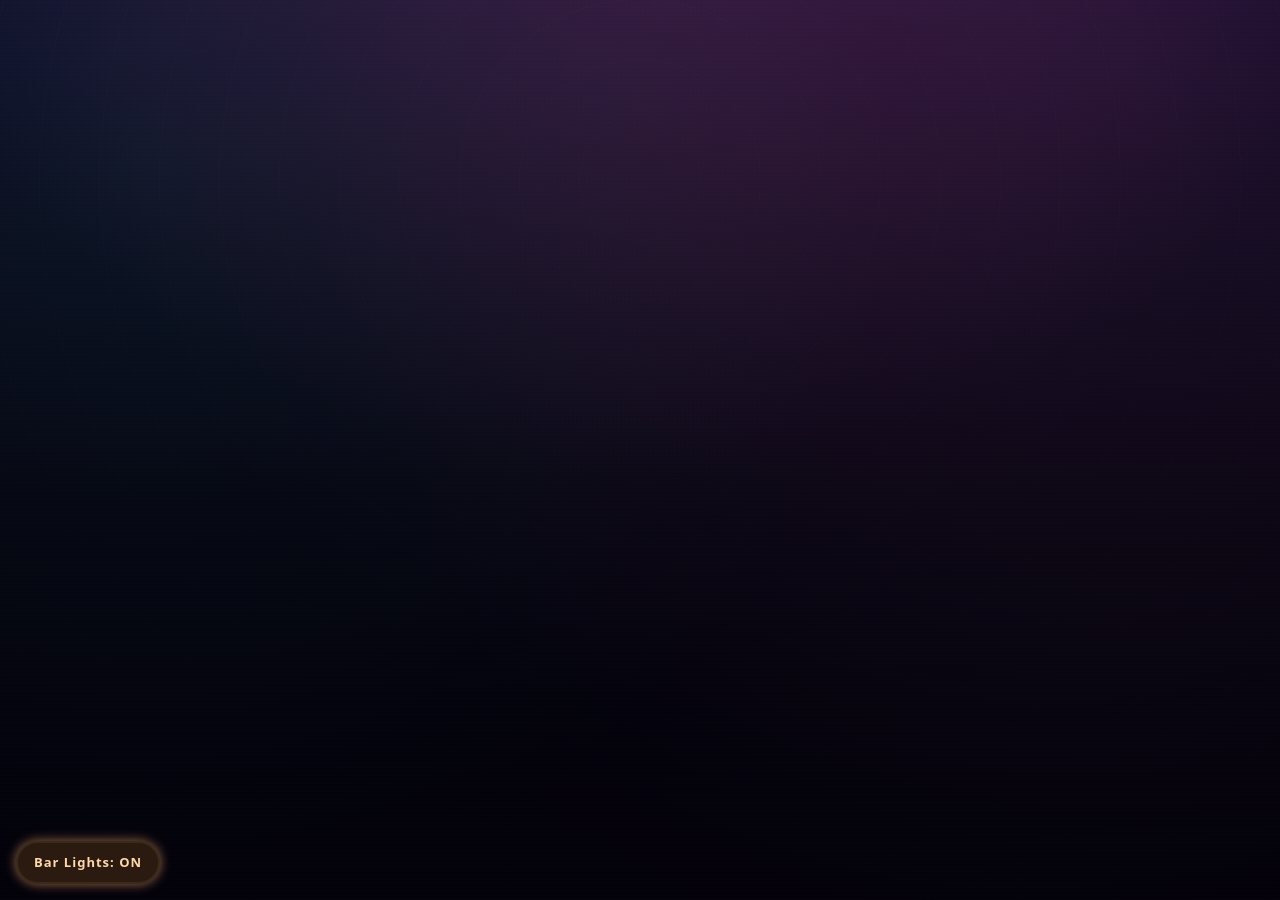
it: BarLightSwitchButton › toggles the store on click
Step 1. Click the button with test id "bar-light-switch" → (88, 862), box x1=16 y1=840 x2=160 y2=884
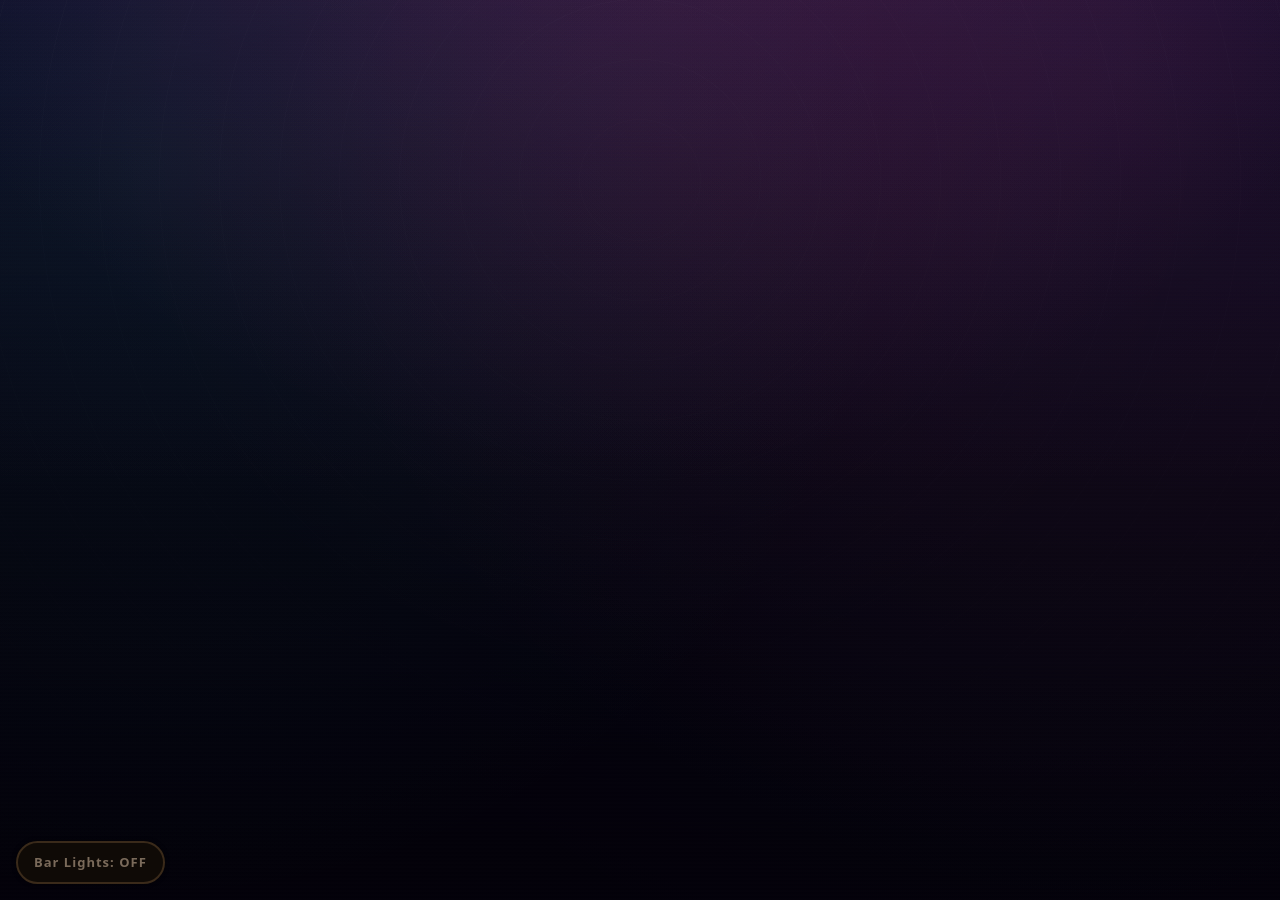
expect the button with test id "bar-light-switch" shows "OFF": met
Step 2. Click the button with test id "bar-light-switch" → (90, 862), box x1=16 y1=840 x2=165 y2=884
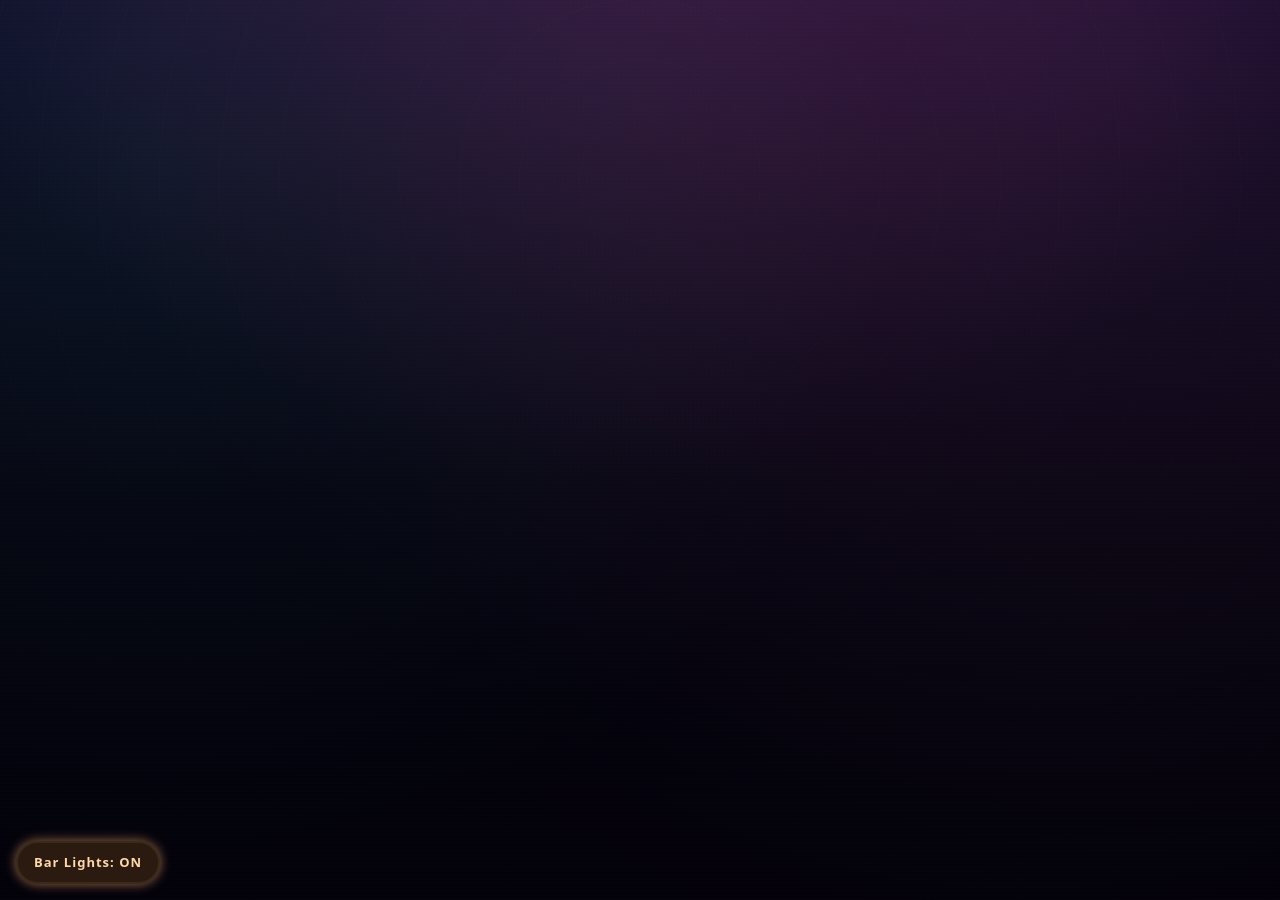
expect the button with test id "bar-light-switch" shows "ON": met, box x1=16 y1=840 x2=160 y2=884
